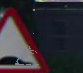Speed Breaker ahead: (1, 5, 52, 72)
